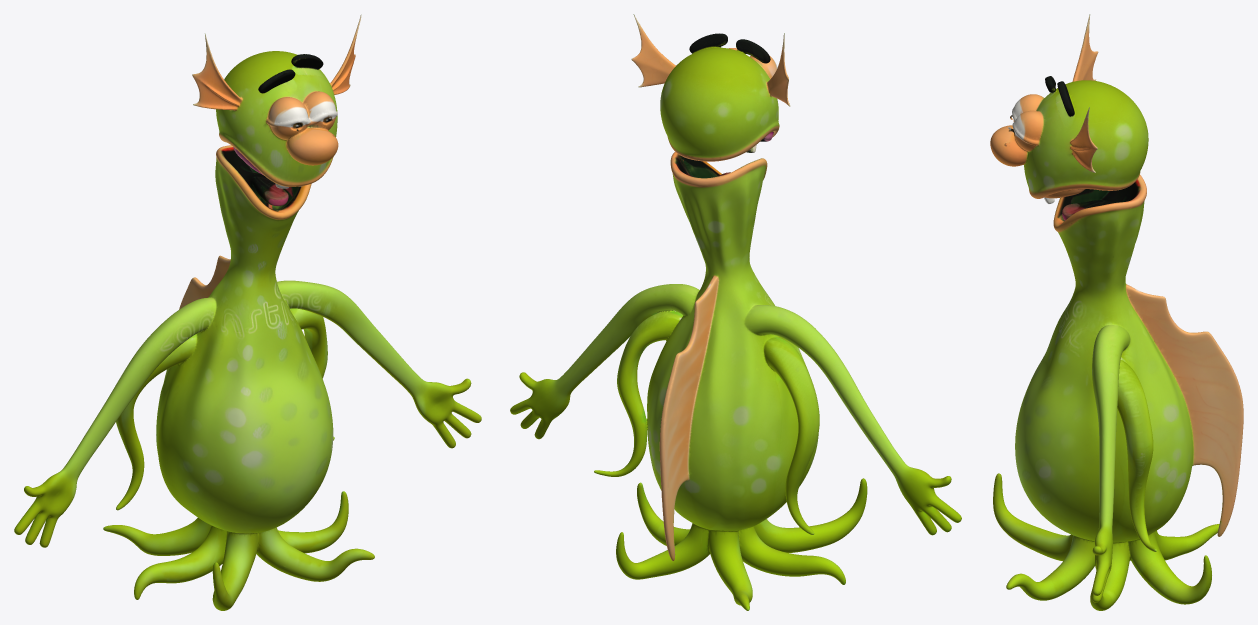
The model's file is monster2.glb.
The picture shows the model from 3 angles, left to right: view 1: azimuth 30°, elevation 25°; view 2: azimuth 150°, elevation 25°; view 3: azimuth 270°, elevation 25°; orthographic projection. The views are drawn at different scales.
Bounding box in the file's own units: 1.67 × 1.9 × 0.8045.
1 material, 1 textured.
